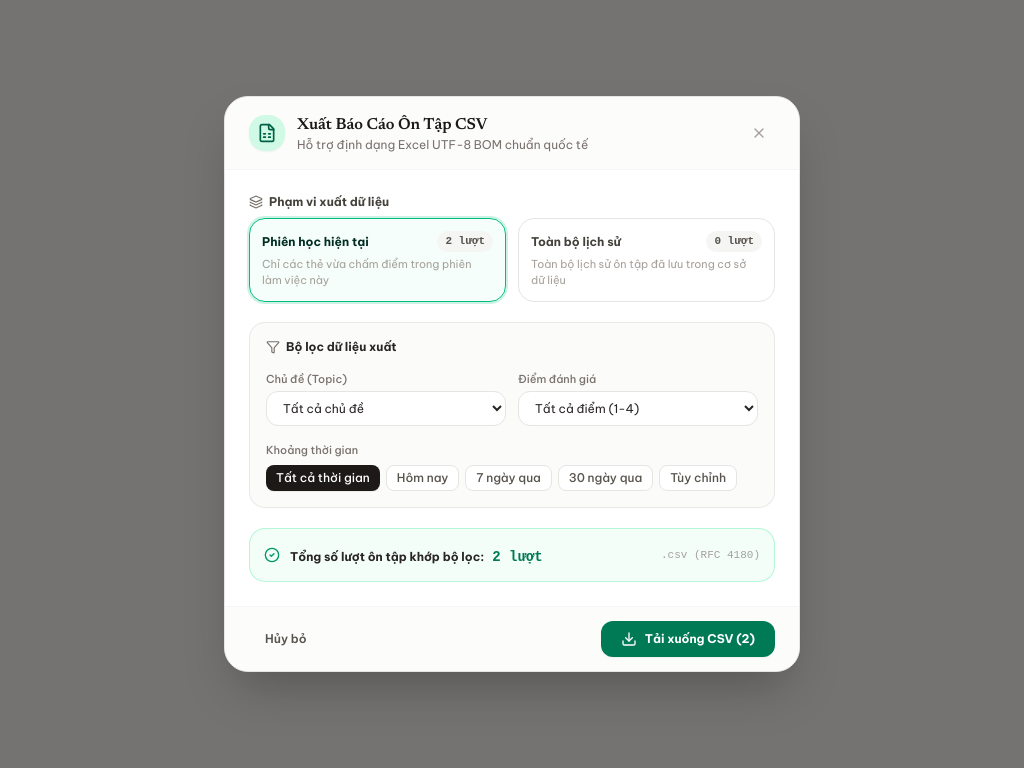
Phase F6.11 Task 5: Export CSV (Session + Full History) › FlashcardExportModal Component › filters session reviews by topic and rating
# Filter by topic-1
Select "Phật Pháp Căn Bản" in the dropdown with test id "filter-topic-select" at (386, 409), box [266,391,506,426]
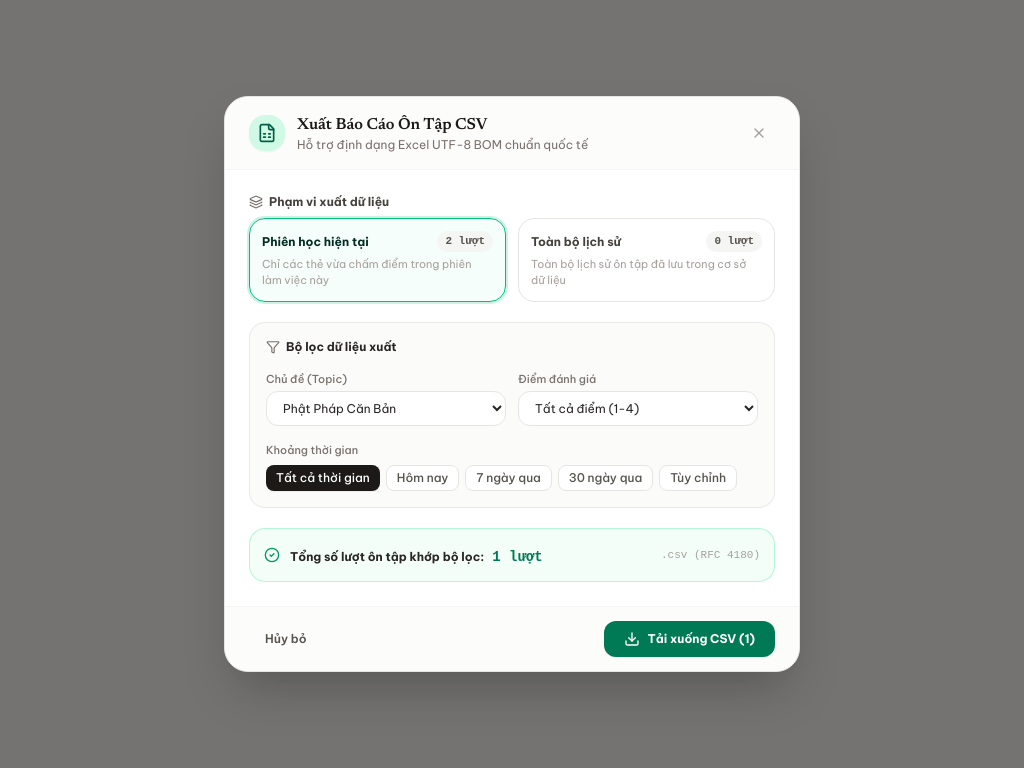
Result: the text with test id "filtered-reviews-count" reads "1 lượt" at [492,549,543,565]
Select "1: Again (Quên)" in the dropdown with test id "filter-rating-select" at (638, 409), box [518,391,758,426]
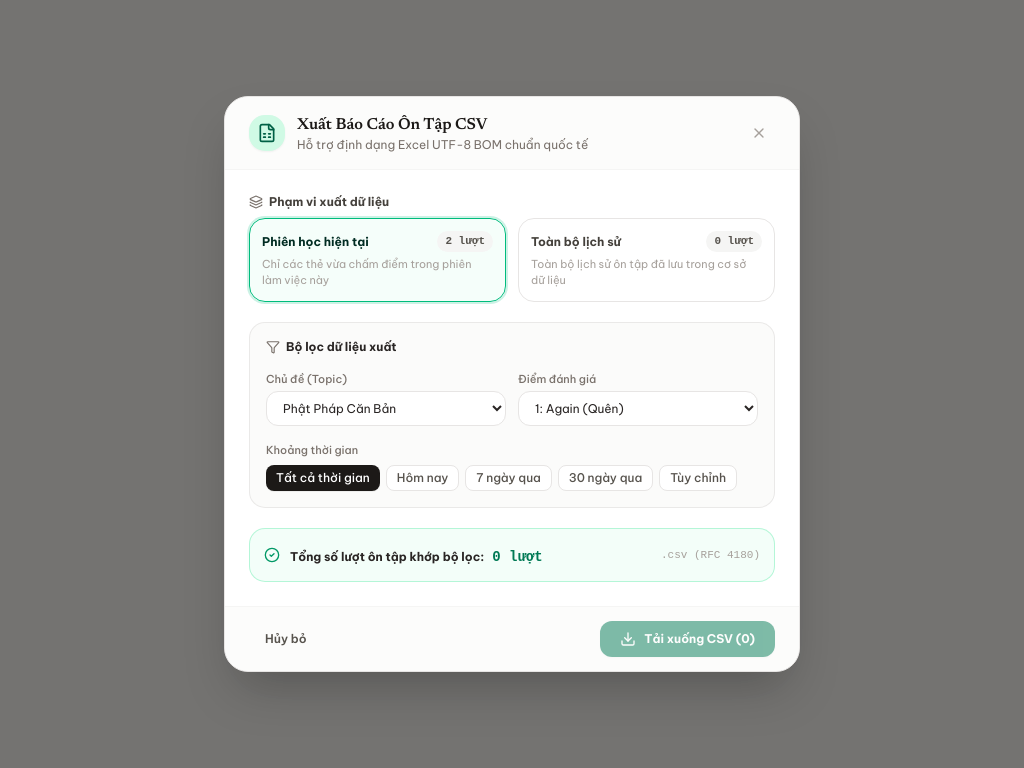
Result: the text with test id "filtered-reviews-count" reads "0 lượt" at [492,549,543,565]
Result: the button with test id "btn-download-csv" is disabled at [600,621,775,657]
